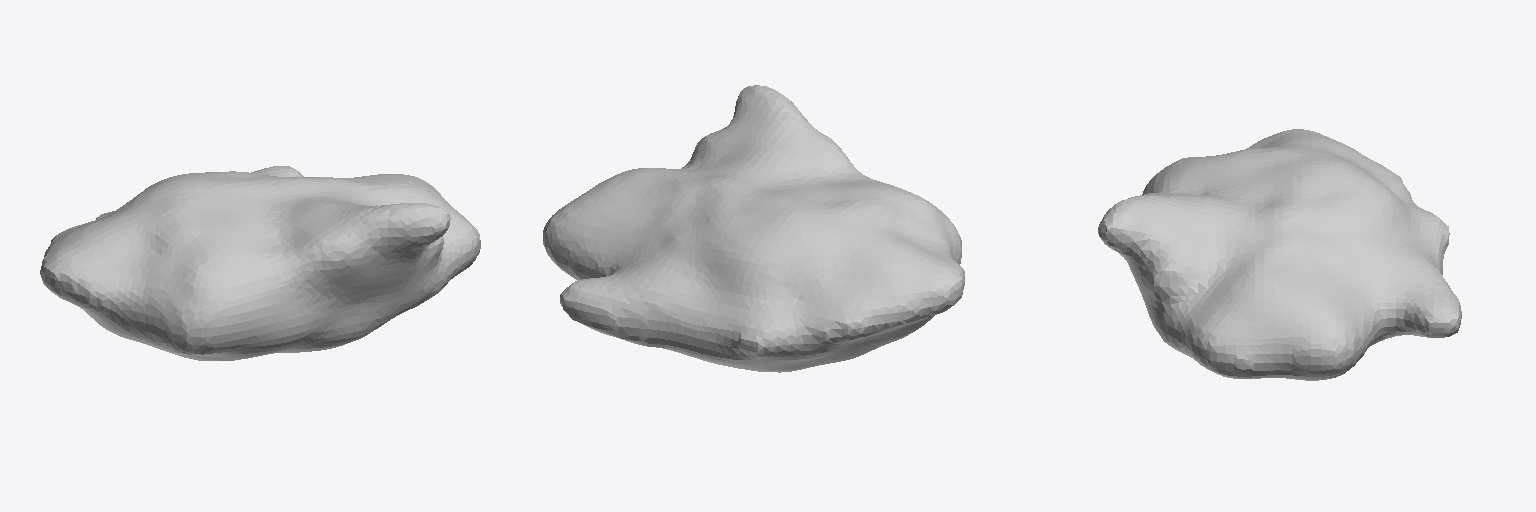
Rendered from cloud4.obj.
3 views of the same model, side by side, from view 1: azimuth 30°, elevation 25°; view 2: azimuth 150°, elevation 25°; view 3: azimuth 270°, elevation 25° (orthographic).
Visible parts, largest first — view 1: mesh_0; view 2: mesh_0; view 3: mesh_0.
Boxes of the visible parts, box(x1,y1,x2,y2) form: mesh_0: box(40, 166, 480, 360); mesh_0: box(543, 85, 964, 372); mesh_0: box(1098, 129, 1461, 380).
Bounding box in the file's own units: 134 × 56.86 × 105.